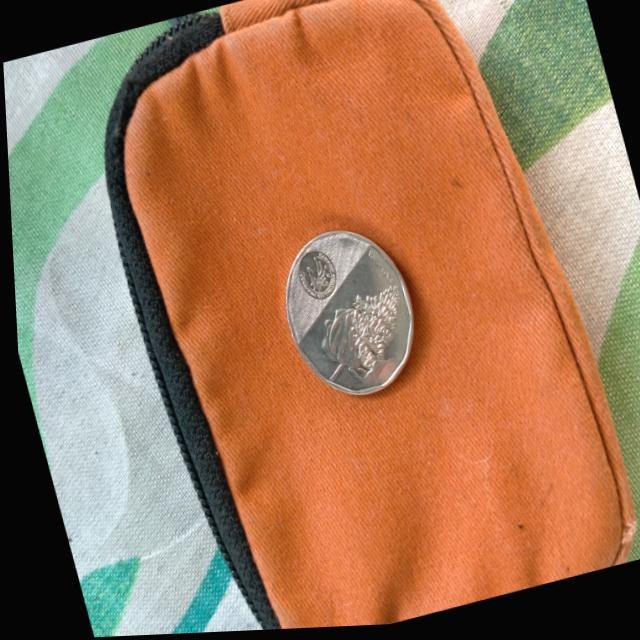10_New_Back: (293, 263, 427, 406)
